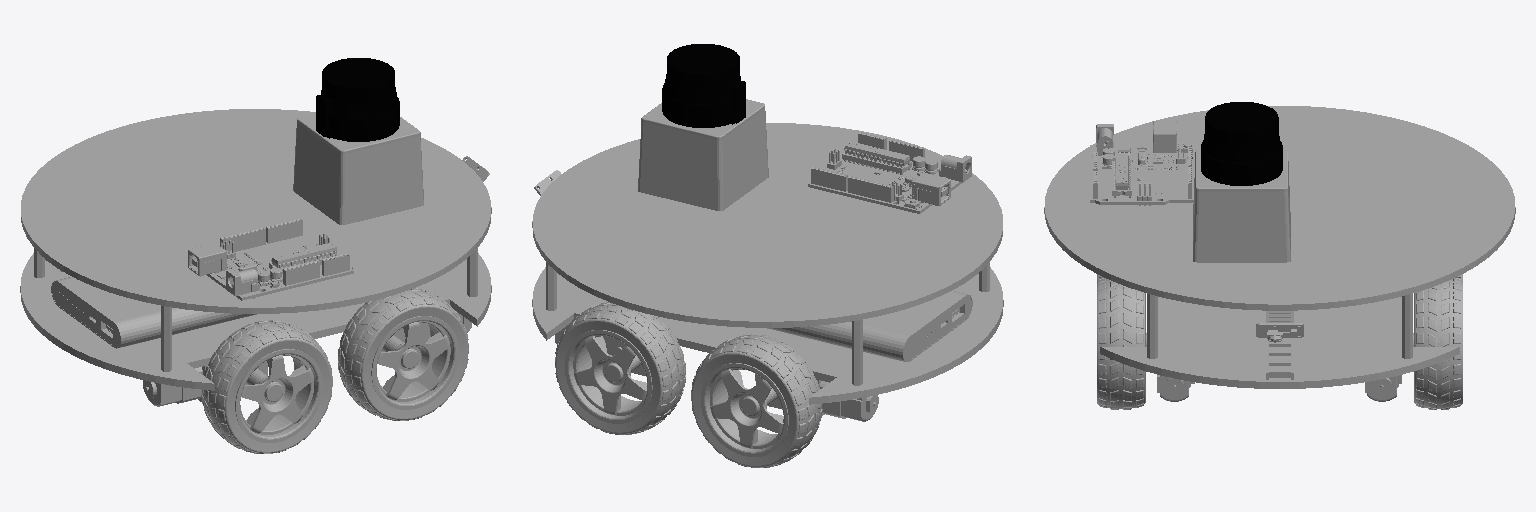
--- Facts derived from the render (not from the file) ---
The picture shows the robot from 3 angles, left to right: view 1: azimuth 30°, elevation 25°; view 2: azimuth 150°, elevation 25°; view 3: azimuth 270°, elevation 25°; orthographic projection.
Model sadiq_bot with 23 links and 22 joints (4 continuous, 18 fixed), rooted at dummy, posed every joint at zero.
Visible links, largest first — view 1: top_1, hokuyo_link, BWR_1, FWR_1, base_link, Arduino_Uno_v1_1, mi_powerbank_2_v1_1, motorBR_1, spacerBR_1; view 2: top_1, hokuyo_link, BWL_1, FWL_1, base_link, Arduino_Uno_v1_1, mi_powerbank_2_v1_1, motorBL_1, spacerBL_1; view 3: top_1, base_link, hokuyo_link, Arduino_Uno_v1_1, FWR_1, FWL_1, cam_holder_1, pi_cam_1, motorFR_1, spacerFR_1, spacerFL_1, motor_v1_1.
Link boxes in pixels (left/top/right/bottom): top_1: left=21, top=109, right=491, bottom=313; hokuyo_link: left=293, top=58, right=423, bottom=224; BWR_1: left=201, top=320, right=332, bottom=453; FWR_1: left=338, top=288, right=468, bottom=420; base_link: left=20, top=253, right=491, bottom=390; Arduino_Uno_v1_1: left=188, top=219, right=353, bottom=300; mi_powerbank_2_v1_1: left=51, top=277, right=256, bottom=348; motorBR_1: left=143, top=361, right=267, bottom=406; spacerBR_1: left=161, top=306, right=171, bottom=371; top_1: left=532, top=123, right=1002, bottom=327; hokuyo_link: left=638, top=44, right=768, bottom=210; BWL_1: left=691, top=334, right=822, bottom=467; FWL_1: left=555, top=302, right=685, bottom=434; base_link: left=532, top=267, right=1003, bottom=404; Arduino_Uno_v1_1: left=808, top=132, right=971, bottom=213; mi_powerbank_2_v1_1: left=767, top=291, right=972, bottom=361; motorBL_1: left=755, top=374, right=878, bottom=421; spacerBL_1: left=852, top=320, right=862, bottom=385; top_1: left=1044, top=106, right=1515, bottom=310; base_link: left=1100, top=297, right=1459, bottom=388; hokuyo_link: left=1193, top=102, right=1290, bottom=262; Arduino_Uno_v1_1: left=1090, top=121, right=1194, bottom=205; FWR_1: left=1097, top=278, right=1146, bottom=409; FWL_1: left=1413, top=278, right=1462, bottom=409; cam_holder_1: left=1266, top=311, right=1293, bottom=379; pi_cam_1: left=1256, top=323, right=1303, bottom=342; motorFR_1: left=1157, top=375, right=1194, bottom=401; spacerFR_1: left=1147, top=294, right=1157, bottom=358; spacerFL_1: left=1402, top=294, right=1412, bottom=358; motor_v1_1: left=1365, top=375, right=1401, bottom=401.
Bounding box of the posed robot: 0.2513 × 0.2399 × 0.1655 m (x, y, z).
Meshes: 22 distinct files referenced, 21 mesh visuals loaded (20 binary STL, 1 Collada DAE); not drawn: 1 (reference not matched to a file when rendering).

robot.urdf — sadiq_bot:
<?xml version="1.0" ?>
<!-- =================================================================================== -->
<!-- |    This document was autogenerated by xacro from sadiq_bot.xacro                | -->
<!-- |    EDITING THIS FILE BY HAND IS NOT RECOMMENDED                                 | -->
<!-- =================================================================================== -->
<robot name="sadiq_bot">
  <material name="silver">
    <color rgba="0.700 0.700 0.700 1.000"/>
  </material>
  <transmission name="FWR_J_tran">
    <type>transmission_interface/SimpleTransmission</type>
    <joint name="FWR_J">
      <hardwareInterface>hardware_interface/EffortJointInterface</hardwareInterface>
    </joint>
    <actuator name="FWR_J_actr">
      <hardwareInterface>hardware_interface/EffortJointInterface</hardwareInterface>
      <mechanicalReduction>1</mechanicalReduction>
    </actuator>
  </transmission>
  <transmission name="FWL_J_tran">
    <type>transmission_interface/SimpleTransmission</type>
    <joint name="FWL_J">
      <hardwareInterface>hardware_interface/EffortJointInterface</hardwareInterface>
    </joint>
    <actuator name="FWL_J_actr">
      <hardwareInterface>hardware_interface/EffortJointInterface</hardwareInterface>
      <mechanicalReduction>1</mechanicalReduction>
    </actuator>
  </transmission>
  <transmission name="BWR_J_tran">
    <type>transmission_interface/SimpleTransmission</type>
    <joint name="BWR_J">
      <hardwareInterface>hardware_interface/EffortJointInterface</hardwareInterface>
    </joint>
    <actuator name="BWR_J_actr">
      <hardwareInterface>hardware_interface/EffortJointInterface</hardwareInterface>
      <mechanicalReduction>1</mechanicalReduction>
    </actuator>
  </transmission>
  <transmission name="BWL_J_tran">
    <type>transmission_interface/SimpleTransmission</type>
    <joint name="BWL_J">
      <hardwareInterface>hardware_interface/EffortJointInterface</hardwareInterface>
    </joint>
    <actuator name="BWL_J_actr">
      <hardwareInterface>hardware_interface/EffortJointInterface</hardwareInterface>
      <mechanicalReduction>1</mechanicalReduction>
    </actuator>
  </transmission>
  <gazebo reference="base_link">
    <material>Gazebo/Silver</material>
  </gazebo>
  <gazebo reference="hokuyo_link">
    <material>Gazebo/Silver</material>
  </gazebo>
  <gazebo reference="spacerFR_1">
    <material>Gazebo/DarkGrey</material>
  </gazebo>
  <gazebo reference="spacerFL_1">
    <material>Gazebo/DarkGrey</material>
  </gazebo>
  <gazebo reference="spacerBL_1">
    <material>Gazebo/DarkGrey</material>
  </gazebo>
  <gazebo reference="spacerBR_1">
    <material>Gazebo/DarkGrey</material>
  </gazebo>
  <gazebo reference="top_1">
    <material>Gazebo/White</material>
  </gazebo>
  <gazebo reference="motorFR_1">
    <material>Gazebo/Yellow</material>
  </gazebo>
  <gazebo reference="motor_v1_1">
    <material>Gazebo/Silver</material>
  </gazebo>
  <gazebo reference="motorBR_1">
    <material>Gazebo/Yellow</material>
  </gazebo>
  <gazebo reference="motorBL_1">
    <material>Gazebo/Yellow</material>
  </gazebo>
  <gazebo reference="FWR_1">
    <material>Gazebo/Yellow</material>
  </gazebo>
  <gazebo reference="FWL_1">
    <material>Gazebo/Yellow</material>
  </gazebo>
  <gazebo reference="BWR_1">
    <material>Gazebo/Yellow</material>
  </gazebo>
  <gazebo reference="BWL_1">
    <material>Gazebo/Yellow</material>
  </gazebo>
  <gazebo reference="L298N__1">
    <material>Gazebo/RedBright</material>
  </gazebo>
  <gazebo reference="battery_1">
    <material>Gazebo/Red</material>
  </gazebo>
  <gazebo reference="mi_powerbank_2_v1_1">
    <material>Gazebo/FlatBlack</material>
  </gazebo>
  <gazebo reference="Lidar_1">
    <material>Gazebo/SkyBlue</material>
  </gazebo>
  <gazebo reference="Raspberry_Pi_1">
    <material>Gazebo/Green</material>
  </gazebo>
  <gazebo reference="Arduino_Uno_v1_1">
    <material>Gazebo/Blue</material>
  </gazebo>
  <gazebo reference="cam_holder_1">
    <material>Gazebo/Turquoise</material>
  </gazebo>
  <gazebo reference="pi_cam_1">
    <material>Gazebo/Turquoise</material>
  </gazebo>
  <gazebo reference="base_link">
    <mu1>1</mu1>
    <mu2>1</mu2>
    <selfCollide>true</selfCollide>
    <gravity>true</gravity>
  </gazebo>
  <gazebo reference="hokuyo_link">
    <mu1>1</mu1>
    <mu2>1</mu2>
    <selfCollide>true</selfCollide>
    <gravity>true</gravity>
  </gazebo>
  <gazebo reference="spacerFR_1">
    <mu1>1</mu1>
    <mu2>1</mu2>
    <selfCollide>true</selfCollide>
  </gazebo>
  <gazebo reference="spacerFL_1">
    <mu1>1</mu1>
    <mu2>1</mu2>
    <selfCollide>true</selfCollide>
  </gazebo>
  <gazebo reference="spacerBL_1">
    <mu1>1</mu1>
    <mu2>1</mu2>
    <selfCollide>true</selfCollide>
  </gazebo>
  <gazebo reference="spacerBR_1">
    <mu1>1</mu1>
    <mu2>1</mu2>
    <selfCollide>true</selfCollide>
  </gazebo>
  <gazebo reference="top_1">
    <mu1>1</mu1>
    <mu2>1</mu2>
    <selfCollide>true</selfCollide>
  </gazebo>
  <gazebo reference="motorFR_1">
    <mu1>1</mu1>
    <mu2>1</mu2>
    <selfCollide>true</selfCollide>
  </gazebo>
  <gazebo reference="motor_v1_1">
    <mu1>1</mu1>
    <mu2>1</mu2>
    <selfCollide>true</selfCollide>
  </gazebo>
  <gazebo reference="motorBR_1">
    <mu1>1</mu1>
    <mu2>1</mu2>
    <selfCollide>true</selfCollide>
  </gazebo>
  <gazebo reference="motorBL_1">
    <mu1>1</mu1>
    <mu2>1</mu2>
    <selfCollide>true</selfCollide>
  </gazebo>
  <gazebo reference="FWR_1">
    <mu1>1</mu1>
    <mu2>1</mu2>
    <selfCollide>true</selfCollide>
  </gazebo>
  <gazebo reference="FWL_1">
    <mu1>1</mu1>
    <mu2>1</mu2>
    <selfCollide>true</selfCollide>
  </gazebo>
  <gazebo reference="BWR_1">
    <mu1>1</mu1>
    <mu2>1</mu2>
    <selfCollide>true</selfCollide>
  </gazebo>
  <gazebo reference="BWL_1">
    <mu1>1</mu1>
    <mu2>1</mu2>
    <selfCollide>true</selfCollide>
  </gazebo>
  <gazebo reference="L298N__1">
    <mu1>1</mu1>
    <mu2>1</mu2>
    <selfCollide>true</selfCollide>
  </gazebo>
  <gazebo reference="battery_1">
    <mu1>1</mu1>
    <mu2>1</mu2>
    <selfCollide>true</selfCollide>
  </gazebo>
  <gazebo reference="mi_powerbank_2_v1_1">
    <mu1>1</mu1>
    <mu2>1</mu2>
    <selfCollide>true</selfCollide>
  </gazebo>
  <gazebo reference="Lidar_1">
    <mu1>1</mu1>
    <mu2>1</mu2>
    <selfCollide>true</selfCollide>
  </gazebo>
  <gazebo reference="Raspberry_Pi_1">
    <mu1>1</mu1>
    <mu2>1</mu2>
    <selfCollide>true</selfCollide>
  </gazebo>
  <gazebo reference="Arduino_Uno_v1_1">
    <mu1>1</mu1>
    <mu2>1</mu2>
    <selfCollide>true</selfCollide>
  </gazebo>
  <gazebo reference="cam_holder_1">
    <mu1>1</mu1>
    <mu2>1</mu2>
    <selfCollide>true</selfCollide>
  </gazebo>
  <gazebo reference="pi_cam_1">
    <mu1>1</mu1>
    <mu2>1</mu2>
    <selfCollide>true</selfCollide>
  </gazebo>
  <gazebo>
    <plugin filename="libgazebo_ros_control.so" name="control"/>
  </gazebo>
  <!-- hokuyo -->
  <gazebo reference="hokuyo_link">
    <sensor name="head_hokuyo_sensor" type="gpu_ray">
      <pose>0 0 0 0 0 0</pose>
      <visualize>true</visualize>
      <update_rate>40</update_rate>
      <ray>
        <scan>
          <horizontal>
            <samples>720</samples>
            <resolution>1</resolution>
            <min_angle>-1.570796</min_angle>
            <max_angle>1.570796</max_angle>
          </horizontal>
        </scan>
        <range>
          <min>0.10</min>
          <max>30.0</max>
          <resolution>0.01</resolution>
        </range>
        <noise>
          <type>gaussian</type>
          <!-- Noise parameters based on published spec for Hokuyo laser
               achieving "+-30mm" accuracy at range < 10m.  A mean of 0.0m and
               stddev of 0.01m will put 99.7% of samples within 0.03m of the true
               reading. -->
          <mean>0.0</mean>
          <stddev>0.01</stddev>
        </noise>
      </ray>
      <plugin filename="libgazebo_ros_gpu_laser.so" name="gazebo_ros_head_hokuyo_controller">
        <topicName>/sadiq_bot/laser/scan</topicName>
        <frameName>hokuyo_link</frameName>
      </plugin>
    </sensor>
  </gazebo>
  <!-- PROPERTY LIST -->
  <!-- Hokuyo Laser scanner -->
  <property name="hokuyo_size" value="0.05"/>
  <!-- Main Body Cylinder base   -->
  <property name="base_height" value="0.02"/>
  <property name="base_radius" value="0.15"/>
  <property name="base_mass" value="5"/>
  <!-- in kg-->
  <link name="dummy">
   </link>
  <joint name="dummy_joint" type="fixed">
    <parent link="dummy"/>
    <child link="base_link"/>
  </joint>
  <link name="base_link">
    <inertial>
      <origin rpy="0 0 0" xyz="-0.005026118534389563 -0.01721865226167774 0.025746091072640934"/>
      <mass value="0.14488567069532468"/>
      <inertia ixx="0.000217" ixy="0.0" ixz="0.0" iyy="0.000656" iyz="0.0" izz="0.000872"/>
    </inertial>
    <visual>
      <origin rpy="0 0 0" xyz="0 0 0"/>
      <geometry>
        <mesh filename="package://sadiq_bot_description/meshes/base_link.stl" scale="0.001 0.001 0.001"/>
      </geometry>
      <material name="silver"/>
    </visual>
    <collision>
      <origin rpy="0 0 0" xyz="0 0 0"/>
      <geometry>
        <mesh filename="package://sadiq_bot_description/meshes/base_link.stl" scale="0.001 0.001 0.001"/>
      </geometry>
    </collision>
  </link>
  <!--Hokyou Laser PArt-->
  <!-- Hokuyo Laser -->
  <link name="hokuyo_link">
    <collision>
      <origin rpy="0 0 0" xyz="0 0 0"/>
      <geometry>
        <box size="0.05 0.05 0.05"/>
      </geometry>
    </collision>
    <visual>
      <origin rpy="0 0 0" xyz="0 0 0"/>
      <geometry>
        <mesh filename="package://sadiq_bot_description/meshes/hokuyo.dae"/>
      </geometry>
    </visual>
    <inertial>
      <mass value="1e-5"/>
      <origin rpy="0 0 0" xyz="0 0 0"/>
      <inertia ixx="1e-6" ixy="0" ixz="0" iyy="1e-6" iyz="0" izz="1e-6"/>
    </inertial>
  </link>
  <joint name="hokuyo_joint" type="fixed">
    <axis xyz="0 1 0"/>
    <origin rpy="0 0 0" xyz="0.15 0.080 0.039"/>
    <parent link="top_1"/>
    <child link="hokuyo_link"/>
  </joint>
  <link name="spacerFR_1">
    <inertial>
      <origin rpy="0 0 0" xyz="0.09502588146561004 -0.04778165226167742 -0.0037459089273591817"/>
      <mass value="0.007352555678129975"/>
      <inertia ixx="1e-06" ixy="0.0" ixz="0.0" iyy="1e-06" iyz="0.0" izz="0.0"/>
    </inertial>
    <visual>
      <origin rpy="0 0 0" xyz="0.010052 0.034437 -0.051492"/>
      <geometry>
        <mesh filename="package://sadiq_bot_description/meshes/spacerFR_1.stl" scale="0.001 0.001 0.001"/>
      </geometry>
      <material name="silver"/>
    </visual>
    <collision>
      <origin rpy="0 0 0" xyz="0.010052 0.034437 -0.051492"/>
      <geometry>
        <mesh filename="package://sadiq_bot_description/meshes/spacerFR_1.stl" scale="0.001 0.001 0.001"/>
      </geometry>
    </collision>
  </link>
  <link name="spacerFL_1">
    <inertial>
      <origin rpy="0 0 0" xyz="0.0950258814656102 0.08221834773832215 -0.0037459089273591123"/>
      <mass value="0.007352555678129974"/>
      <inertia ixx="1e-06" ixy="0.0" ixz="0.0" iyy="1e-06" iyz="0.0" izz="0.0"/>
    </inertial>
    <visual>
      <origin rpy="0 0 0" xyz="0.010052 0.034437 -0.051492"/>
      <geometry>
        <mesh filename="package://sadiq_bot_description/meshes/spacerFL_1.stl" scale="0.001 0.001 0.001"/>
      </geometry>
      <material name="silver"/>
    </visual>
    <collision>
      <origin rpy="0 0 0" xyz="0.010052 0.034437 -0.051492"/>
      <geometry>
        <mesh filename="package://sadiq_bot_description/meshes/spacerFL_1.stl" scale="0.001 0.001 0.001"/>
      </geometry>
    </collision>
  </link>
  <link name="spacerBL_1">
    <inertial>
      <origin rpy="0 0 0" xyz="-0.08497411853438903 0.08221834773832201 -0.003745908927359147"/>
      <mass value="0.007352555678129975"/>
      <inertia ixx="1e-06" ixy="0.0" ixz="0.0" iyy="1e-06" iyz="0.0" izz="0.0"/>
    </inertial>
    <visual>
      <origin rpy="0 0 0" xyz="0.010052 0.034437 -0.051492"/>
      <geometry>
        <mesh filename="package://sadiq_bot_description/meshes/spacerBL_1.stl" scale="0.001 0.001 0.001"/>
      </geometry>
      <material name="silver"/>
    </visual>
    <collision>
      <origin rpy="0 0 0" xyz="0.010052 0.034437 -0.051492"/>
      <geometry>
        <mesh filename="package://sadiq_bot_description/meshes/spacerBL_1.stl" scale="0.001 0.001 0.001"/>
      </geometry>
    </collision>
  </link>
  <link name="spacerBR_1">
    <inertial>
      <origin rpy="0 0 0" xyz="-0.08497411853438917 -0.04778165226167754 -0.0037459089273592094"/>
      <mass value="0.007352555678129975"/>
      <inertia ixx="1e-06" ixy="0.0" ixz="0.0" iyy="1e-06" iyz="0.0" izz="0.0"/>
    </inertial>
    <visual>
      <origin rpy="0 0 0" xyz="0.010052 0.034437 -0.051492"/>
      <geometry>
        <mesh filename="package://sadiq_bot_description/meshes/spacerBR_1.stl" scale="0.001 0.001 0.001"/>
      </geometry>
      <material name="silver"/>
    </visual>
    <collision>
      <origin rpy="0 0 0" xyz="0.010052 0.034437 -0.051492"/>
      <geometry>
        <mesh filename="package://sadiq_bot_description/meshes/spacerBR_1.stl" scale="0.001 0.001 0.001"/>
      </geometry>
    </collision>
  </link>
  <link name="top_1">
    <inertial>
      <origin rpy="0 0 0" xyz="0.09502588146561056 0.08221834773832232 -0.021995908927359295"/>
      <mass value="0.18810348845221944"/>
      <inertia ixx="0.000677" ixy="0.0" ixz="0.0" iyy="0.000677" iyz="0.0" izz="0.001354"/>
    </inertial>
    <visual>
      <origin rpy="0 0 0" xyz="0.100052 0.099437 -0.091492"/>
      <geometry>
        <mesh filename="package://sadiq_bot_description/meshes/top_1.stl" scale="0.001 0.001 0.001"/>
      </geometry>
      <material name="silver"/>
    </visual>
    <collision>
      <origin rpy="0 0 0" xyz="0.100052 0.099437 -0.091492"/>
      <geometry>
        <mesh filename="package://sadiq_bot_description/meshes/top_1.stl" scale="0.001 0.001 0.001"/>
      </geometry>
    </collision>
  </link>
  <link name="motorFR_1">
    <inertial>
      <origin rpy="0 0 0" xyz="0.06831773842621108 -0.03562575348317477 -0.034895911203991395"/>
      <mass value="0.11062025194414454"/>
      <inertia ixx="8e-06" ixy="2e-06" ixz="0.0" iyy="4.6e-05" iyz="-0.0" izz="4.6e-05"/>
    </inertial>
    <visual>
      <origin rpy="0 0 0" xyz="0.010052 0.034437 -0.047492"/>
      <geometry>
        <mesh filename="package://sadiq_bot_description/meshes/motorFR_1.stl" scale="0.001 0.001 0.001"/>
      </geometry>
      <material name="silver"/>
    </visual>
    <collision>
      <origin rpy="0 0 0" xyz="0.010052 0.034437 -0.047492"/>
      <geometry>
        <mesh filename="package://sadiq_bot_description/meshes/motorFR_1.stl" scale="0.001 0.001 0.001"/>
      </geometry>
    </collision>
  </link>
  <link name="motor_v1_1">
    <inertial>
      <origin rpy="0 0 0" xyz="0.06831773842621125 0.07017424651682438 -0.03489591120399146"/>
      <mass value="0.11062025194414454"/>
      <inertia ixx="8e-06" ixy="2e-06" ixz="0.0" iyy="4.6e-05" iyz="-0.0" izz="4.6e-05"/>
    </inertial>
    <visual>
      <origin rpy="0 0 0" xyz="0.010052 0.034437 -0.047492"/>
      <geometry>
        <mesh filename="package://sadiq_bot_description/meshes/motor_v1_1.stl" scale="0.001 0.001 0.001"/>
      </geometry>
      <material name="silver"/>
    </visual>
    <collision>
      <origin rpy="0 0 0" xyz="0.010052 0.034437 -0.047492"/>
      <geometry>
        <mesh filename="package://sadiq_bot_description/meshes/motor_v1_1.stl" scale="0.001 0.001 0.001"/>
      </geometry>
    </collision>
  </link>
  <link name="motorBR_1">
    <inertial>
      <origin rpy="0 0 0" xyz="-0.0582659754949908 -0.03573755104017939 -0.03489591120399207"/>
      <mass value="0.11062025194414454"/>
      <inertia ixx="8e-06" ixy="2e-06" ixz="-0.0" iyy="4.6e-05" iyz="0.0" izz="4.6e-05"/>
    </inertial>
    <visual>
      <origin rpy="0 0 0" xyz="0.010052 0.034437 -0.047492"/>
      <geometry>
        <mesh filename="package://sadiq_bot_description/meshes/motorBR_1.stl" scale="0.001 0.001 0.001"/>
      </geometry>
      <material name="silver"/>
    </visual>
    <collision>
      <origin rpy="0 0 0" xyz="0.010052 0.034437 -0.047492"/>
      <geometry>
        <mesh filename="package://sadiq_bot_description/meshes/motorBR_1.stl" scale="0.001 0.001 0.001"/>
      </geometry>
    </collision>
  </link>
  <link name="motorBL_1">
    <inertial>
      <origin rpy="0 0 0" xyz="-0.05826597549499012 0.07006244895981945 -0.03489591120399149"/>
      <mass value="0.11062025194414454"/>
      <inertia ixx="8e-06" ixy="2e-06" ixz="-0.0" iyy="4.6e-05" iyz="0.0" izz="4.6e-05"/>
    </inertial>
    <visual>
      <origin rpy="0 0 0" xyz="0.010052 0.034437 -0.047492"/>
      <geometry>
        <mesh filename="package://sadiq_bot_description/meshes/motorBL_1.stl" scale="0.001 0.001 0.001"/>
      </geometry>
      <material name="silver"/>
    </visual>
    <collision>
      <origin rpy="0 0 0" xyz="0.010052 0.034437 -0.047492"/>
      <geometry>
        <mesh filename="package://sadiq_bot_description/meshes/motorBL_1.stl" scale="0.001 0.001 0.001"/>
      </geometry>
    </collision>
  </link>
  <link name="FWR_1">
    <inertial>
      <origin rpy="0 0 0" xyz="-1.1276749470323644e-07 -0.01812674605645491 7.216094384358829e-08"/>
      <mass value="0.1680116657550928"/>
      <inertia ixx="6.8e-05" ixy="-0.0" ixz="0.0" iyy="0.000114" iyz="0.0" izz="6.8e-05"/>
    </inertial>
    <visual>
      <origin rpy="0 0 0" xyz="-0.035054 0.080619 -0.012596"/>
      <geometry>
        <mesh filename="package://sadiq_bot_description/meshes/FWR_1.stl" scale="0.001 0.001 0.001"/>
      </geometry>
      <material name="silver"/>
    </visual>
    <collision>
      <origin rpy="0 0 0" xyz="-0.035054 0.080619 -0.012596"/>
      <geometry>
        <mesh filename="package://sadiq_bot_description/meshes/FWR_1.stl" scale="0.001 0.001 0.001"/>
      </geometry>
    </collision>
  </link>
  <link name="FWL_1">
    <inertial>
      <origin rpy="0 0 0" xyz="-1.1276749467548086e-07 0.01812744153309806 1.0998433783854233e-07"/>
      <mass value="0.1680116657550928"/>
      <inertia ixx="6.8e-05" ixy="0.0" ixz="-0.0" iyy="0.000114" iyz="0.0" izz="6.8e-05"/>
    </inertial>
    <visual>
      <origin rpy="0 0 0" xyz="-0.035054 -0.046181 -0.012596"/>
      <geometry>
        <mesh filename="package://sadiq_bot_description/meshes/FWL_1.stl" scale="0.001 0.001 0.001"/>
      </geometry>
      <material name="silver"/>
    </visual>
    <collision>
      <origin rpy="0 0 0" xyz="-0.035054 -0.046181 -0.012596"/>
      <geometry>
        <mesh filename="package://sadiq_bot_description/meshes/FWL_1.stl" scale="0.001 0.001 0.001"/>
      </geometry>
    </collision>
  </link>
  <link name="BWR_1">
    <inertial>
      <origin rpy="0 0 0" xyz="-1.1276749390526364e-07 -0.01812674605645488 7.216094386267025e-08"/>
      <mass value="0.1680116657550928"/>
      <inertia ixx="6.8e-05" ixy="-0.0" ixz="0.0" iyy="0.000114" iyz="0.0" izz="6.8e-05"/>
    </inertial>
    <visual>
      <origin rpy="0 0 0" xyz="0.045106 0.080619 -0.012596"/>
      <geometry>
        <mesh filename="package://sadiq_bot_description/meshes/BWR_1.stl" scale="0.001 0.001 0.001"/>
      </geometry>
      <material name="silver"/>
    </visual>
    <collision>
      <origin rpy="0 0 0" xyz="0.045106 0.080619 -0.012596"/>
      <geometry>
        <mesh filename="package://sadiq_bot_description/meshes/BWR_1.stl" scale="0.001 0.001 0.001"/>
      </geometry>
    </collision>
  </link>
  <link name="BWL_1">
    <inertial>
      <origin rpy="0 0 0" xyz="-1.12767493946897e-07 0.018127441533098032 1.0998433790099238e-07"/>
      <mass value="0.1680116657550928"/>
      <inertia ixx="6.8e-05" ixy="0.0" ixz="-0.0" iyy="0.000114" iyz="0.0" izz="6.8e-05"/>
    </inertial>
    <visual>
      <origin rpy="0 0 0" xyz="0.045106 -0.046181 -0.012596"/>
      <geometry>
        <mesh filename="package://sadiq_bot_description/meshes/BWL_1.stl" scale="0.001 0.001 0.001"/>
      </geometry>
      <material name="silver"/>
    </visual>
    <collision>
      <origin rpy="0 0 0" xyz="0.045106 -0.046181 -0.012596"/>
      <geometry>
        <mesh filename="package://sadiq_bot_description/meshes/BWL_1.stl" scale="0.001 0.001 0.001"/>
      </geometry>
    </collision>
  </link>
  <link name="L298N__1">
    <inertial>
      <origin rpy="0 0 0" xyz="0.0026188329057179175 -0.00024964355635801946 -0.004255262218323969"/>
      <mass value="0.02216639435647811"/>
      <inertia ixx="2e-06" ixy="-0.0" ixz="0.0" iyy="2e-06" iyz="0.0" izz="3e-06"/>
    </inertial>
    <visual>
      <origin rpy="0 0 0" xyz="0.005026 0.017219 -0.023746"/>
      <geometry>
        <mesh filename="package://sadiq_bot_description/meshes/L298N__1.stl" scale="0.001 0.001 0.001"/>
      </geometry>
      <material name="silver"/>
    </visual>
    <collision>
      <origin rpy="0 0 0" xyz="0.005026 0.017219 -0.023746"/>
      <geometry>
        <mesh filename="package://sadiq_bot_description/meshes/L298N__1.stl" scale="0.001 0.001 0.001"/>
      </geometry>
    </collision>
  </link>
  <link name="battery_1">
    <inertial>
      <origin rpy="0 0 0" xyz="-0.04366569494234184 0.017248371421731985 -0.032245908694498865"/>
      <mass value="0.15463634880103655"/>
      <inertia ixx="1.2e-05" ixy="-0.0" ixz="0.0" iyy="3e-05" iyz="0.0" izz="3.5e-05"/>
    </inertial>
    <visual>
      <origin rpy="0 0 0" xyz="0.010052 0.034437 -0.047492"/>
      <geometry>
        <mesh filename="package://sadiq_bot_description/meshes/battery_1.stl" scale="0.001 0.001 0.001"/>
      </geometry>
      <material name="silver"/>
    </visual>
    <collision>
      <origin rpy="0 0 0" xyz="0.010052 0.034437 -0.047492"/>
      <geometry>
        <mesh filename="package://sadiq_bot_description/meshes/battery_1.stl" scale="0.001 0.001 0.001"/>
      </geometry>
    </collision>
  </link>
  <link name="mi_powerbank_2_v1_1">
    <inertial>
      <origin rpy="0 0 0" xyz="-0.02965900072121467 0.01731484208144186 -0.016697832740958506"/>
      <mass value="0.9711932513436171"/>
      <inertia ixx="0.000392" ixy="6e-06" ixz="-0.0" iyy="0.001367" iyz="-0.0" izz="0.001728"/>
    </inertial>
    <visual>
      <origin rpy="0 0 0" xyz="0.010052 0.034437 -0.051492"/>
      <geometry>
        <mesh filename="package://sadiq_bot_description/meshes/mi_powerbank_2_v1_1.stl" scale="0.001 0.001 0.001"/>
      </geometry>
      <material name="silver"/>
    </visual>
    <collision>
      <origin rpy="0 0 0" xyz="0.010052 0.034437 -0.051492"/>
      <geometry>
        <mesh filename="package://sadiq_bot_description/meshes/mi_powerbank_2_v1_1.stl" scale="0.001 0.001 0.001"/>
      </geometry>
    </collision>
  </link>
  <link name="Raspberry_Pi_1">
    <inertial>
      <origin rpy="0 0 0" xyz="-0.0501180585799936 0.07625567615124004 -0.010367435631088828"/>
      <mass value="0.11046204859047104"/>
      <inertia ixx="3.3e-05" ixy="2e-06" ixz="7e-06" iyy="7.4e-05" iyz="-0.0" izz="0.000102"/>
    </inertial>
    <visual>
      <origin rpy="0 0 0" xyz="0.010052 0.034437 -0.088992"/>
      <geometry>
        <mesh filename="package://sadiq_bot_description/meshes/Raspberry_Pi_1.stl" scale="0.001 0.001 0.001"/>
      </geometry>
      <material name="silver"/>
    </visual>
    <collision>
      <origin rpy="0 0 0" xyz="0.010052 0.034437 -0.088992"/>
      <geometry>
        <mesh filename="package://sadiq_bot_description/meshes/Raspberry_Pi_1.stl" scale="0.001 0.001 0.001"/>
      </geometry>
    </collision>
  </link>
  <link name="Arduino_Uno_v1_1">
    <inertial>
      <origin rpy="0 0 0" xyz="-0.029514641378178302 -0.053764906163982946 -0.012208697644848054"/>
      <mass value="0.09575566619921361"/>
      <inertia ixx="2.6e-05" ixy="3e-06" ixz="1e-06" iyy="4.3e-05" iyz="0.0" izz="6.7e-05"/>
    </inertial>
    <visual>
      <origin rpy="0 0 0" xyz="0.010052 0.034437 -0.088992"/>
      <geometry>
        <mesh filename="package://sadiq_bot_description/meshes/Arduino_Uno_v1_1.stl" scale="0.001 0.001 0.001"/>
      </geometry>
      <material name="silver"/>
    </visual>
    <collision>
      <origin rpy="0 0 0" xyz="0.010052 0.034437 -0.088992"/>
      <geometry>
        <mesh filename="package://sadiq_bot_description/meshes/Arduino_Uno_v1_1.stl" scale="0.001 0.001 0.001"/>
      </geometry>
    </collision>
  </link>
  <link name="cam_holder_1">
    <inertial>
      <origin rpy="0 0 0" xyz="0.07577093135878428 1.4122304249353235e-06 0.009991120977664268"/>
      <mass value="0.009781937489392125"/>
      <inertia ixx="1e-06" ixy="-0.0" ixz="-1e-06" iyy="7e-06" iyz="-0.0" izz="6e-06"/>
    </inertial>
    <visual>
      <origin rpy="0 0 0" xyz="0.005026 0.017219 -0.027746"/>
      <geometry>
        <mesh filename="package://sadiq_bot_description/meshes/cam_holder_1.stl" scale="0.001 0.001 0.001"/>
      </geometry>
      <material name="silver"/>
    </visual>
    <collision>
      <origin rpy="0 0 0" xyz="0.005026 0.017219 -0.027746"/>
      <geometry>
        <mesh filename="package://sadiq_bot_description/meshes/cam_holder_1.stl" scale="0.001 0.001 0.001"/>
      </geometry>
    </collision>
  </link>
  <link name="pi_cam_1">
    <inertial>
      <origin rpy="0 0 0" xyz="0.0009444618619615375 -0.00038888161594860873 -0.001023932548815193"/>
      <mass value="0.006742869651497777"/>
      <inertia ixx="0.0" ixy="0.0" ixz="-0.0" iyy="0.0" iyz="-0.0" izz="0.0"/>
    </inertial>
    <visual>
      <origin rpy="0 0 0" xyz="-0.116096 0.017219 -0.057771"/>
      <geometry>
        <mesh filename="package://sadiq_bot_description/meshes/pi_cam_1.stl" scale="0.001 0.001 0.001"/>
      </geometry>
      <material name="silver"/>
    </visual>
    <collision>
      <origin rpy="0 0 0" xyz="-0.116096 0.017219 -0.057771"/>
      <geometry>
        <mesh filename="package://sadiq_bot_description/meshes/pi_cam_1.stl" scale="0.001 0.001 0.001"/>
      </geometry>
    </collision>
  </link>
  <joint name="spacerFRJ" type="fixed">
    <origin rpy="0 0 0" xyz="-0.010052 -0.034437 0.051492"/>
    <parent link="base_link"/>
    <child link="spacerFR_1"/>
  </joint>
  <joint name="spacerFLJ" type="fixed">
    <origin rpy="0 0 0" xyz="-0.010052 -0.034437 0.051492"/>
    <parent link="base_link"/>
    <child link="spacerFL_1"/>
  </joint>
  <joint name="spacerBLJ" type="fixed">
    <origin rpy="0 0 0" xyz="-0.010052 -0.034437 0.051492"/>
    <parent link="base_link"/>
    <child link="spacerBL_1"/>
  </joint>
  <joint name="spacerBRJ" type="fixed">
    <origin rpy="0 0 0" xyz="-0.010052 -0.034437 0.051492"/>
    <parent link="base_link"/>
    <child link="spacerBR_1"/>
  </joint>
  <joint name="top_J" type="fixed">
    <origin rpy="0 0 0" xyz="-0.09 -0.065 0.04"/>
    <parent link="spacerBR_1"/>
    <child link="top_1"/>
  </joint>
  <joint name="motorFR_J" type="fixed">
    <origin rpy="0 0 0" xyz="-0.010052 -0.034437 0.047492"/>
    <parent link="base_link"/>
    <child link="motorFR_1"/>
  </joint>
  <joint name="motorFL_J" type="fixed">
    <origin rpy="0 0 0" xyz="-0.010052 -0.034437 0.047492"/>
    <parent link="base_link"/>
    <child link="motor_v1_1"/>
  </joint>
  <joint name="motorBR_J" type="fixed">
    <origin rpy="0 0 0" xyz="-0.010052 -0.034437 0.047492"/>
    <parent link="base_link"/>
    <child link="motorBR_1"/>
  </joint>
  <joint name="motorBL_J" type="fixed">
    <origin rpy="0 0 0" xyz="-0.010052 -0.034437 0.047492"/>
    <parent link="base_link"/>
    <child link="motorBL_1"/>
  </joint>
  <joint name="FWR_J" type="continuous">
    <origin rpy="0 0 0" xyz="0.045106 -0.046182 -0.034896"/>
    <parent link="motorFR_1"/>
    <child link="FWR_1"/>
    <axis xyz="-0.0 -1.0 -0.0"/>
  </joint>
  <joint name="FWL_J" type="continuous">
    <origin rpy="0 0 0" xyz="0.045106 0.080618 -0.034896"/>
    <parent link="motor_v1_1"/>
    <child link="FWL_1"/>
    <axis xyz="0.0 1.0 0.0"/>
  </joint>
  <joint name="BWR_J" type="continuous">
    <origin rpy="0 0 0" xyz="-0.035054 -0.046182 -0.034896"/>
    <parent link="motorBR_1"/>
    <child link="BWR_1"/>
    <axis xyz="-0.0 -1.0 0.0"/>
  </joint>
  <joint name="BWL_J" type="continuous">
    <origin rpy="0 0 0" xyz="-0.035054 0.080618 -0.034896"/>
    <parent link="motorBL_1"/>
    <child link="BWL_1"/>
    <axis xyz="-0.0 1.0 0.0"/>
  </joint>
  <joint name="l289N_J" type="fixed">
    <origin rpy="0 0 0" xyz="-0.005026 -0.017219 0.023746"/>
    <parent link="base_link"/>
    <child link="L298N__1"/>
  </joint>
  <joint name="battery_J" type="fixed">
    <origin rpy="0 0 0" xyz="-0.010052 -0.034437 0.047492"/>
    <parent link="base_link"/>
    <child link="battery_1"/>
  </joint>
  <joint name="Powerbn_J" type="fixed">
    <origin rpy="0 0 0" xyz="-0.010052 -0.034437 0.051492"/>
    <parent link="base_link"/>
    <child link="mi_powerbank_2_v1_1"/>
  </joint>
  <joint name="raspberry_pi_J" type="fixed">
    <origin rpy="0 0 0" xyz="0.09 0.065 -0.0025"/>
    <parent link="top_1"/>
    <child link="Raspberry_Pi_1"/>
  </joint>
  <joint name="arduino_J" type="fixed">
    <origin rpy="0 0 0" xyz="0.09 0.065 -0.0025"/>
    <parent link="top_1"/>
    <child link="Arduino_Uno_v1_1"/>
  </joint>
  <joint name="cam_holder_J" type="fixed">
    <origin rpy="0 0 0" xyz="-0.005026 -0.017219 0.027746"/>
    <parent link="base_link"/>
    <child link="cam_holder_1"/>
  </joint>
  <joint name="picam_J" type="fixed">
    <origin rpy="0 0 0" xyz="0.121122 0.0 0.030025"/>
    <parent link="cam_holder_1"/>
    <child link="pi_cam_1"/>
  </joint>
</robot>
